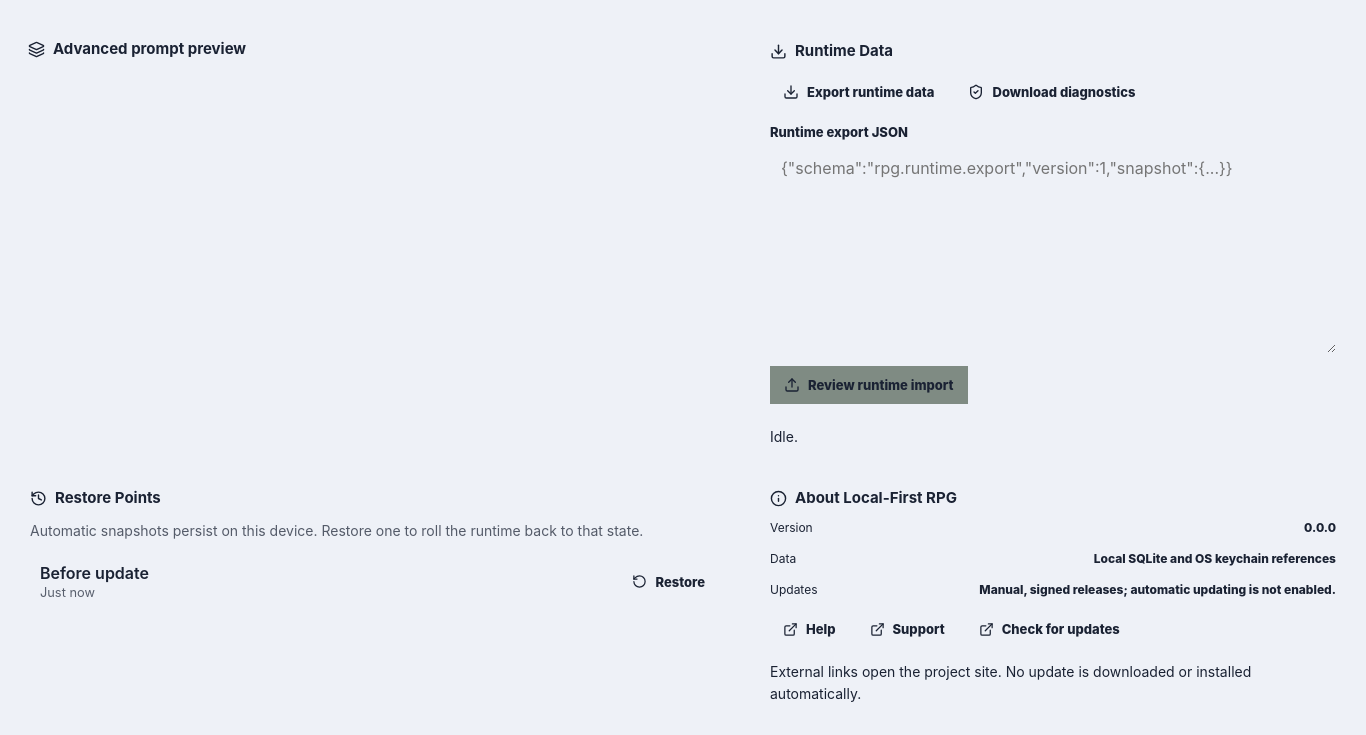
Test: Settings destructive actions › requires a keyboard-safe confirmation before restoring a runtime snapshot
(page scrolled)
Click the button with aria-label "Restore Before update" at (669, 582), box [620,563,718,601]
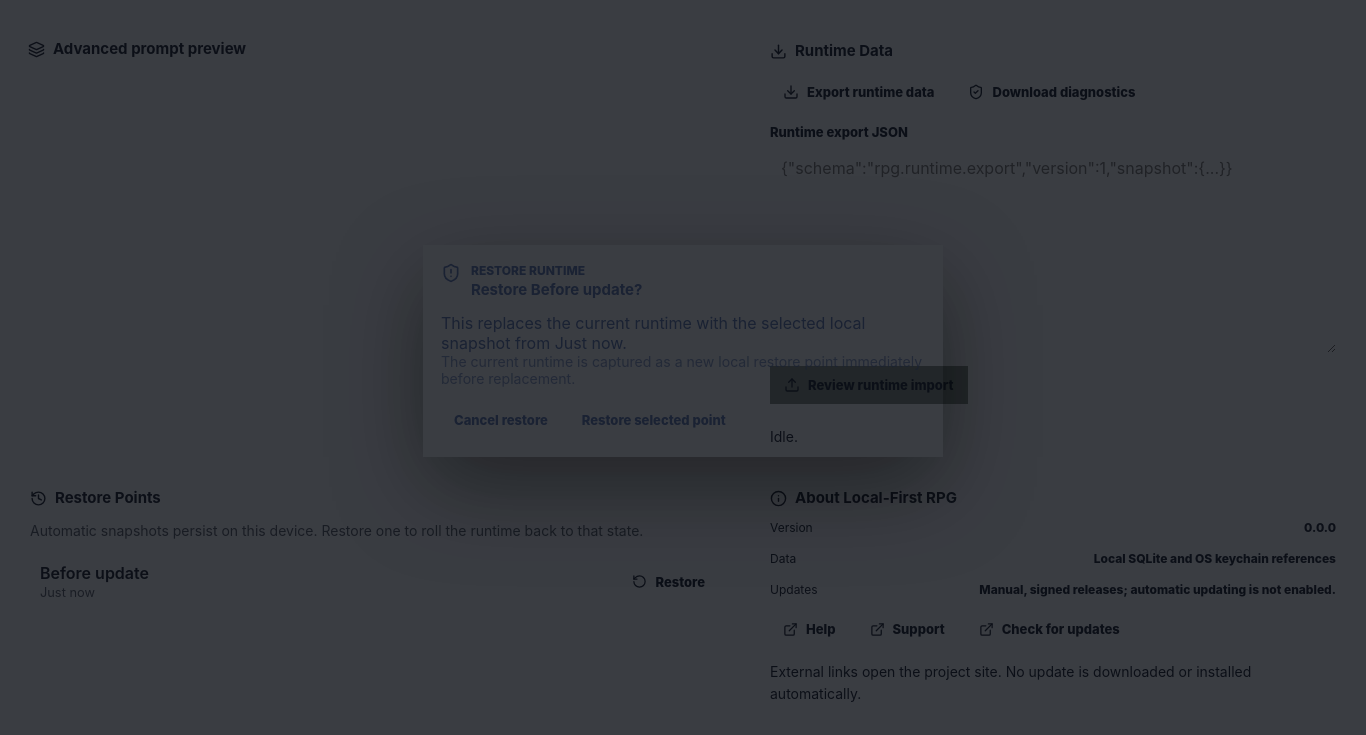
Press Escape
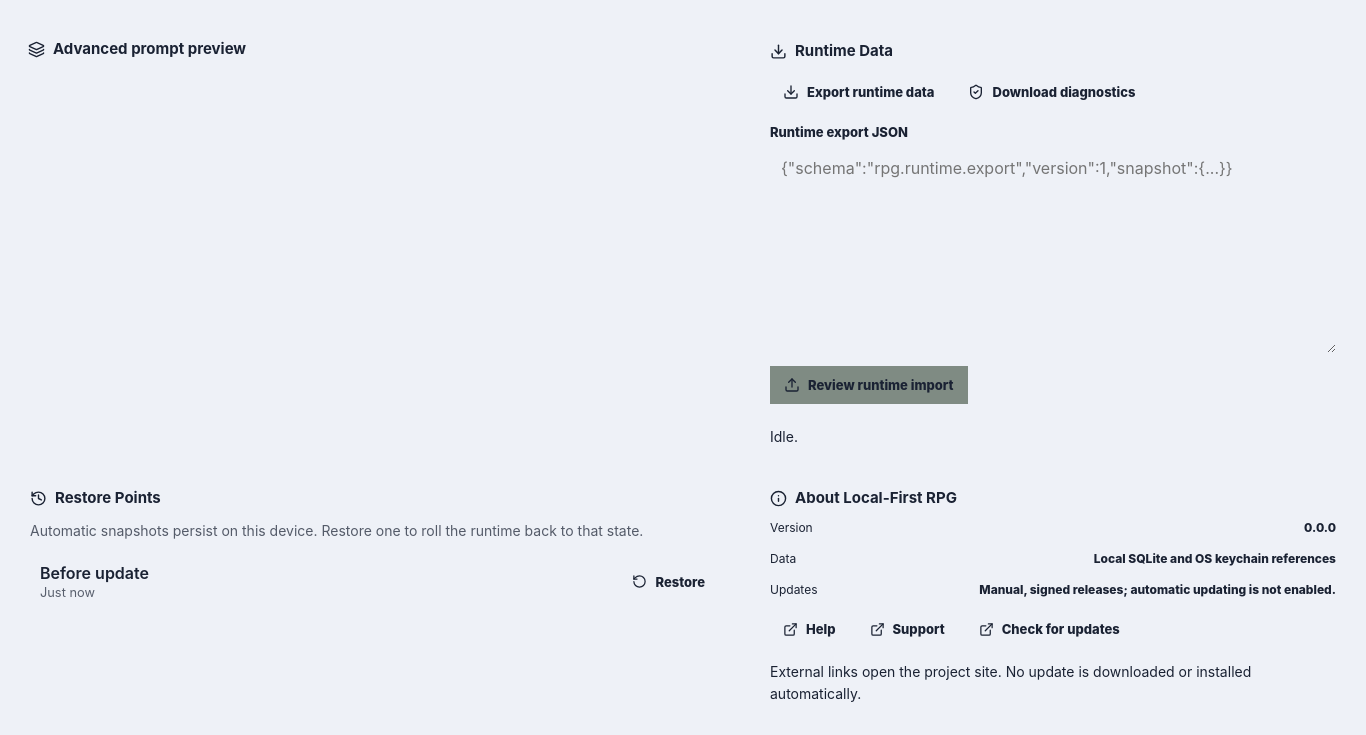
expect the dialog is gone: met
Click the button with aria-label "Restore Before update" at (669, 582), box [620,563,718,601]
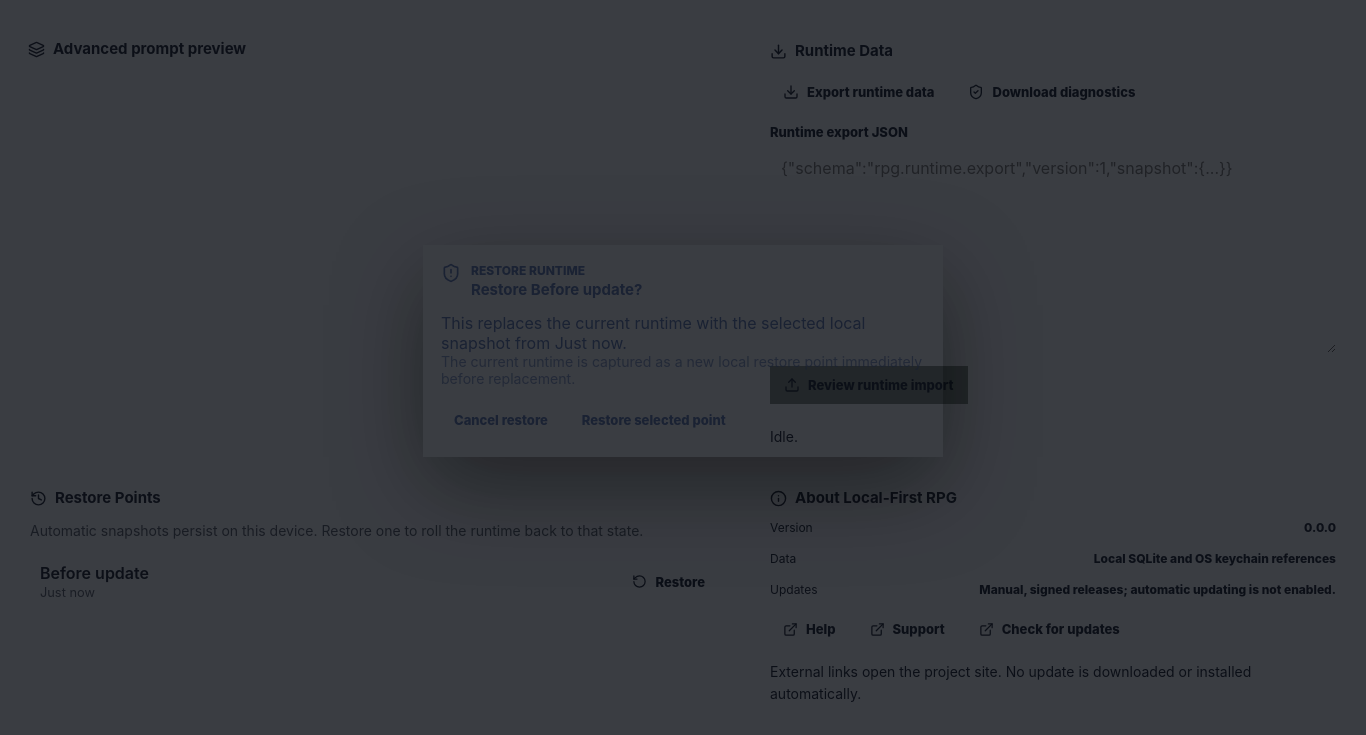
Click the button "Restore selected point" at (654, 420), box [569,401,739,439]
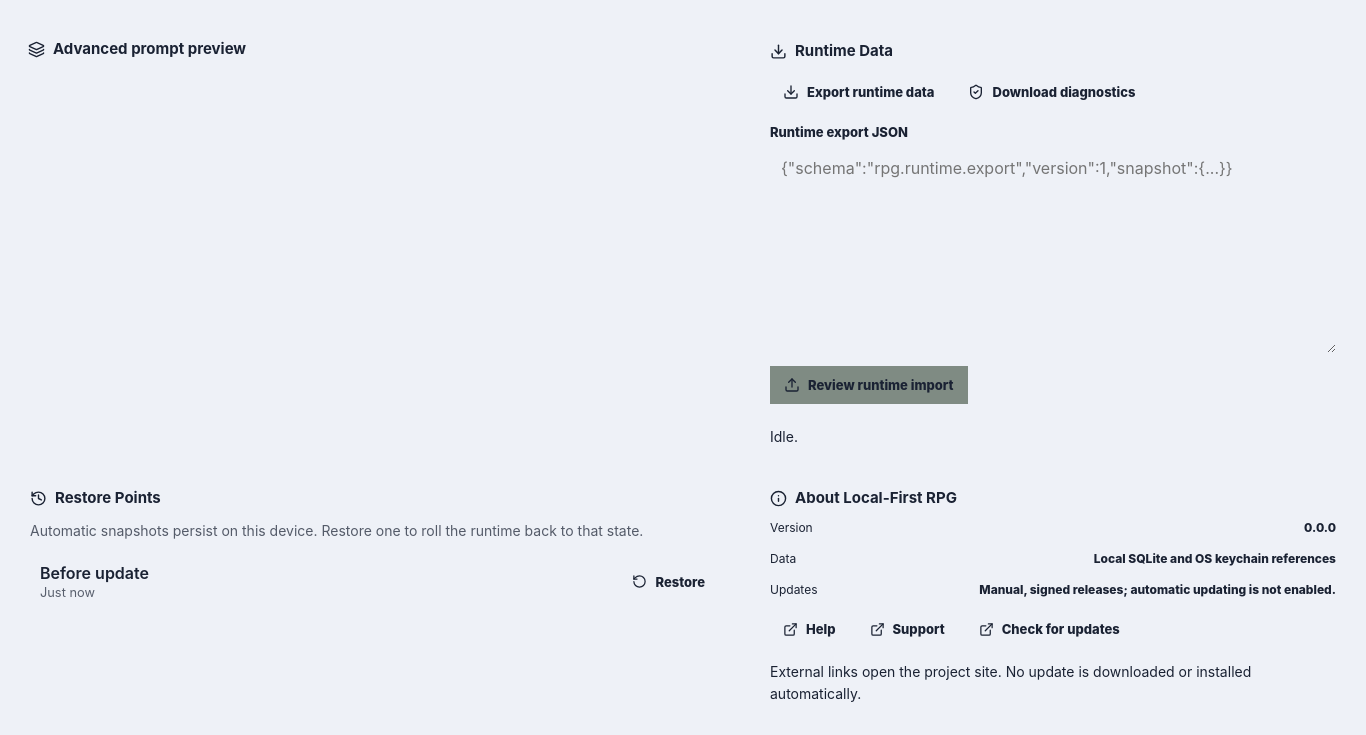
expect the dialog is gone: met
